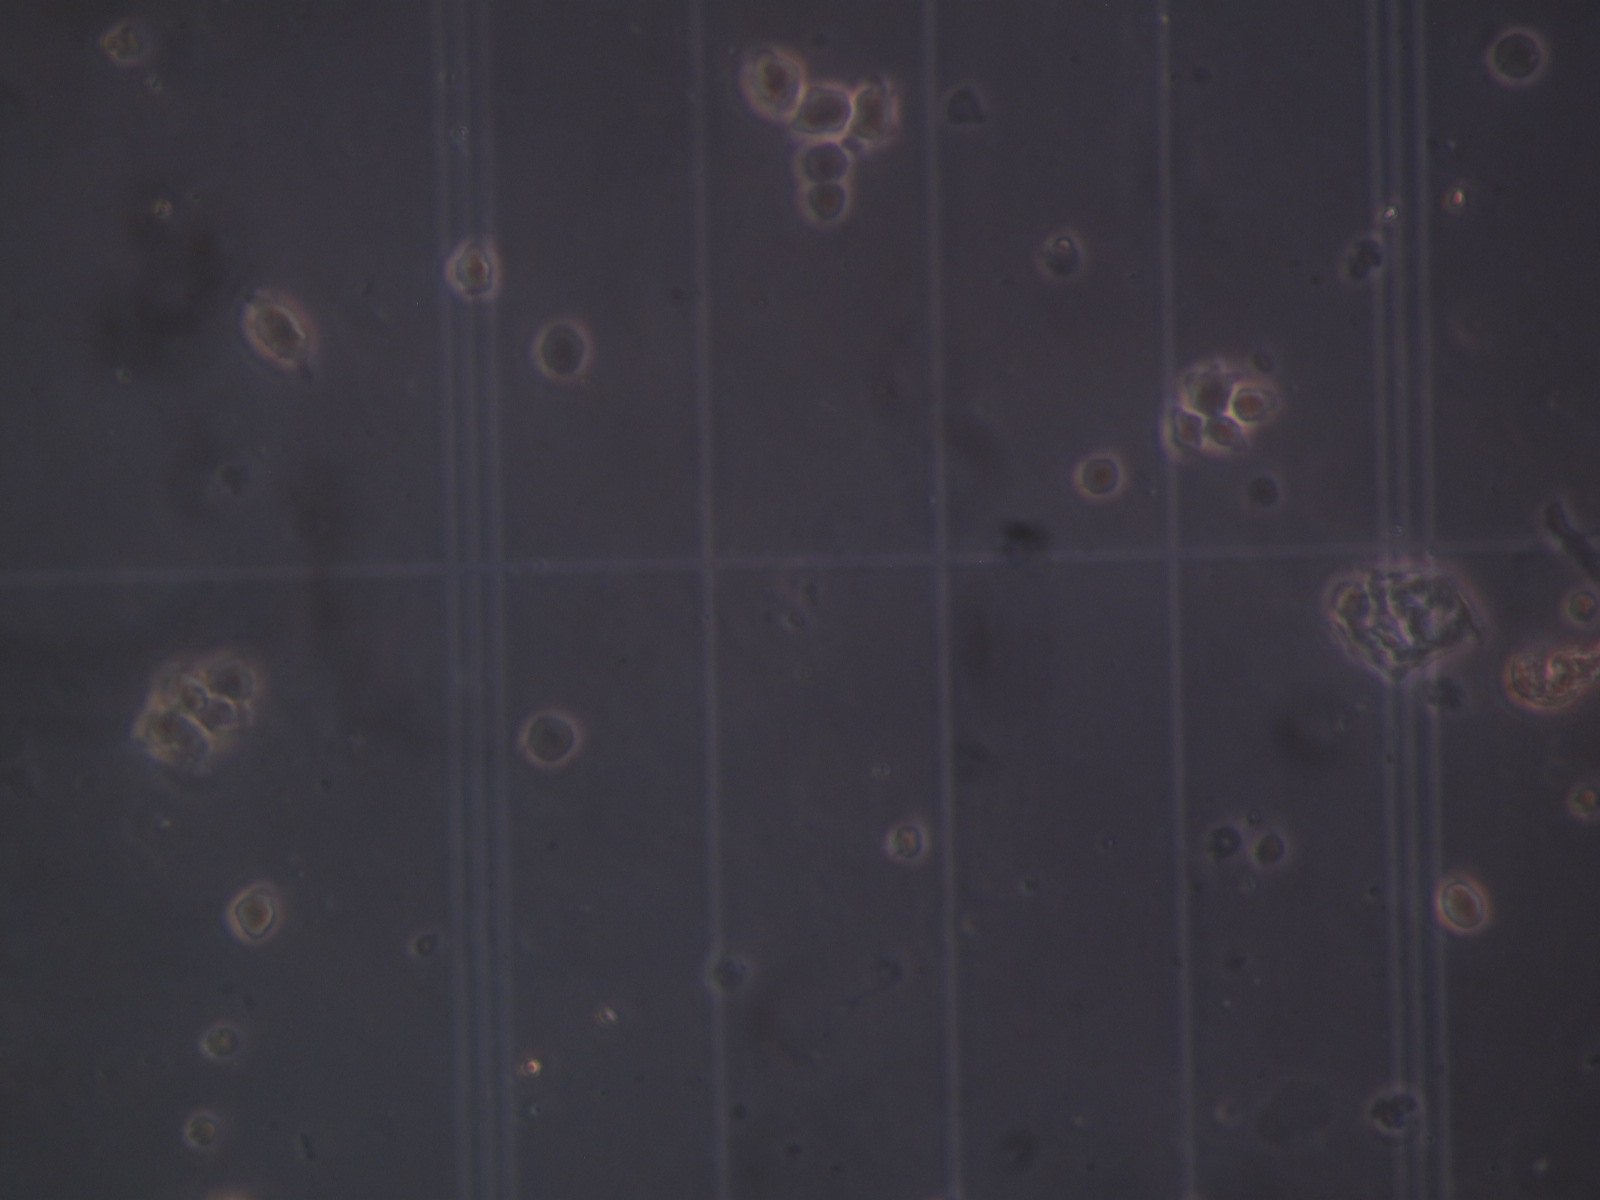hemo: (243, 294, 312, 369), (745, 48, 808, 122), (144, 711, 218, 766), (522, 708, 581, 771), (446, 239, 501, 306), (533, 320, 592, 382), (228, 884, 282, 945), (1436, 874, 1490, 933), (792, 84, 853, 137), (1487, 30, 1545, 84), (850, 83, 900, 145), (204, 653, 258, 705), (797, 179, 850, 227), (703, 947, 752, 997), (1184, 366, 1233, 415), (1073, 451, 1124, 499), (100, 20, 151, 66), (1038, 228, 1083, 279), (1230, 382, 1281, 426), (797, 142, 850, 182), (1162, 405, 1204, 453), (1204, 413, 1251, 454), (197, 693, 242, 734), (1251, 828, 1291, 872), (884, 823, 927, 863), (199, 1021, 242, 1061), (183, 1113, 220, 1150)
